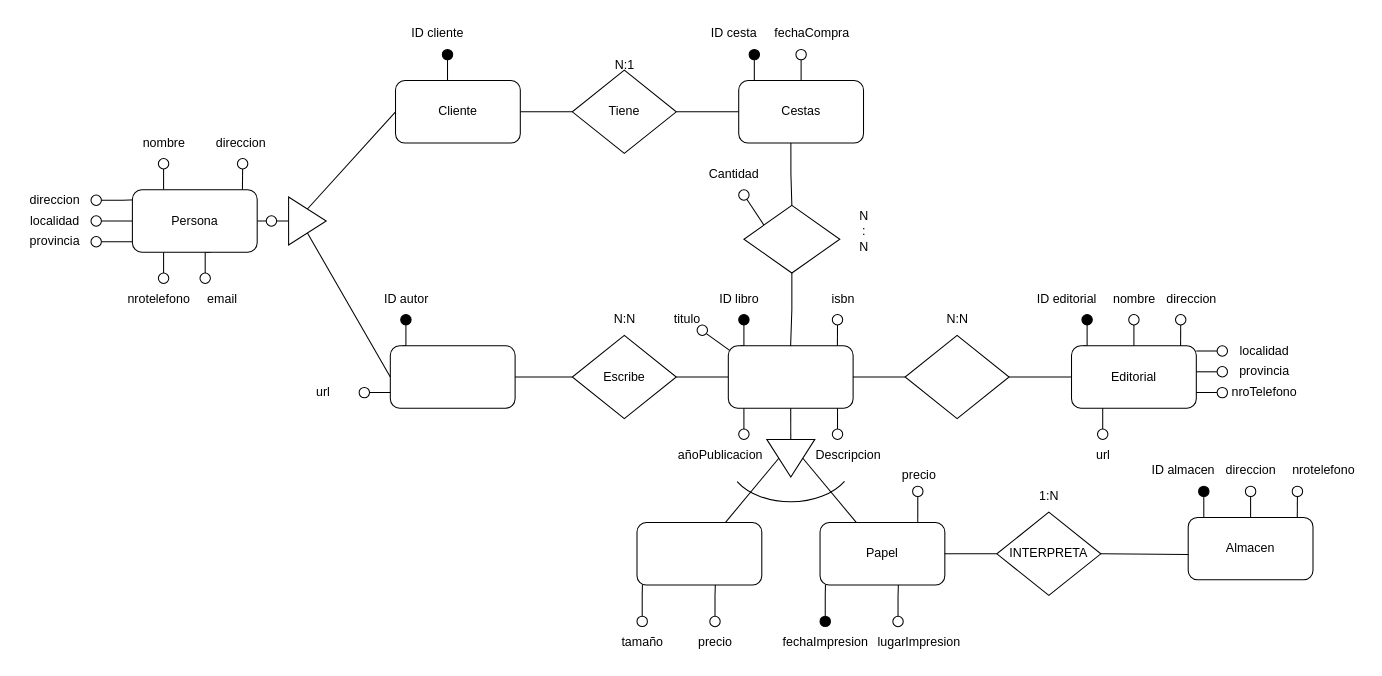
Some shapes in this 1382 by 676 pixel diagram are drawn without their labels. The shapes that lost their labels are listed below. From the top down, each one's centre as x and y in pixels, then its label:
the point at 791,238: acccion
the point at 452,376: Autor
the point at 790,376: Libro
the point at 956,376: Publica
the point at 699,553: Ebook
